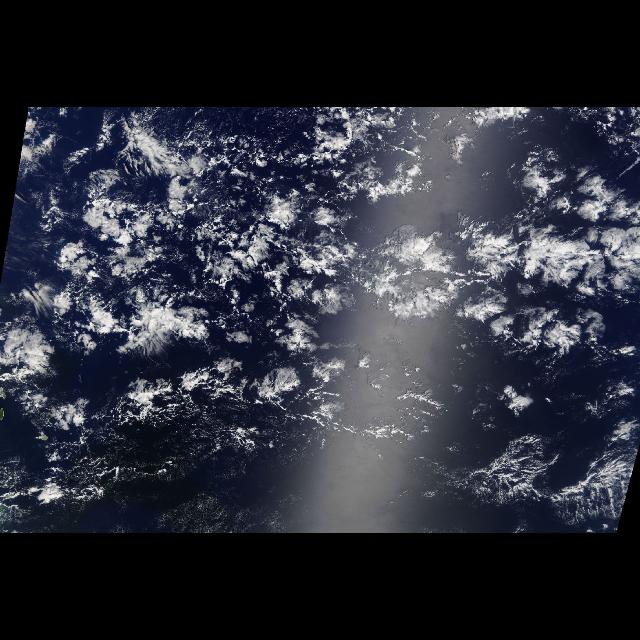Fish: (343, 202, 637, 374)
Flower: (11, 154, 640, 386)
